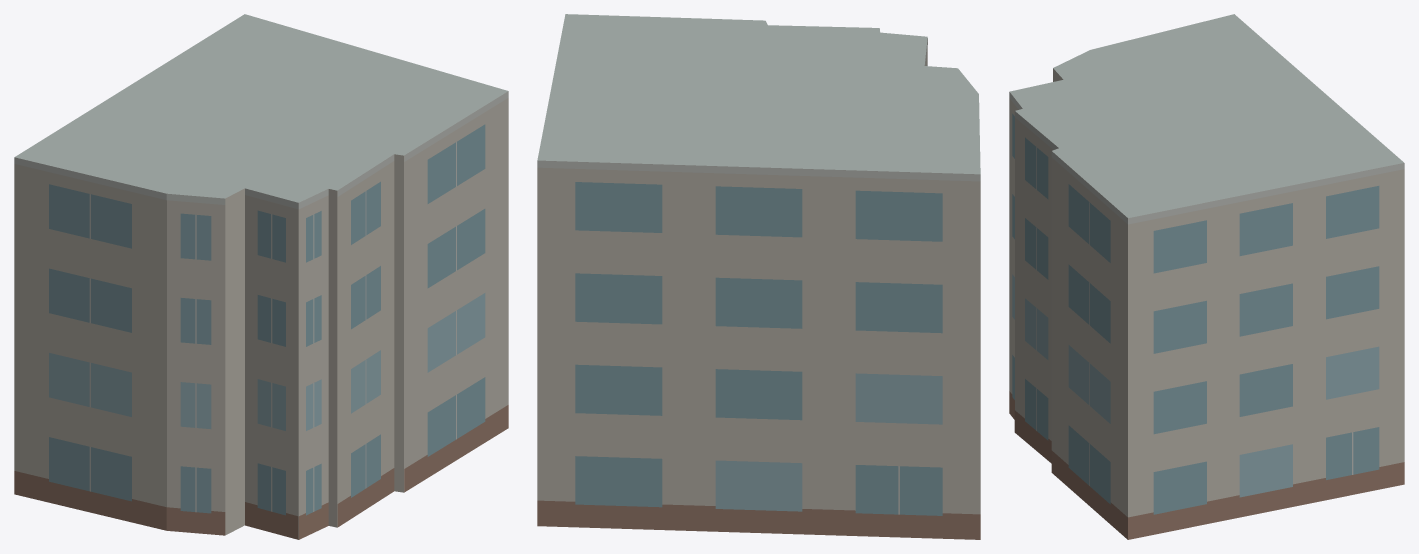
File: survey-upis-32825761.glb
3 views of the same model, side by side, from view 1: azimuth 30°, elevation 25°; view 2: azimuth 150°, elevation 25°; view 3: azimuth 270°, elevation 25° (orthographic). The views are drawn at different scales.
Parts seen in each view (by area): view 1: survey-upis-32825761.tmp; view 2: survey-upis-32825761.tmp; view 3: survey-upis-32825761.tmp.
Boxes of the visible parts, bbox=[...] form: survey-upis-32825761.tmp: bbox=[14, 14, 508, 539]; survey-upis-32825761.tmp: bbox=[537, 14, 980, 539]; survey-upis-32825761.tmp: bbox=[1009, 14, 1404, 539].
Size of the model in its own units: 17.03 by 12.5 by 13.92.
